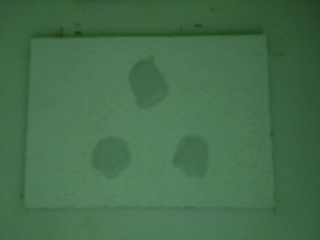Water_detected: (180, 144, 215, 178), (95, 145, 130, 177), (131, 72, 163, 100)
